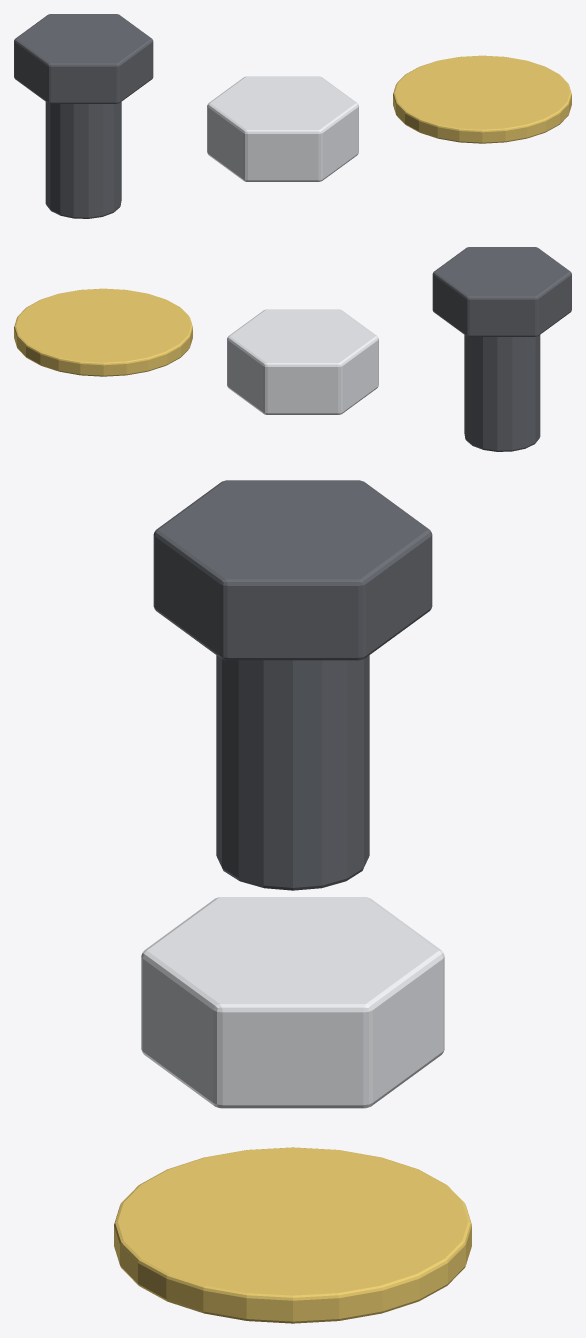
Rendered from Prop_Hardware_Pack.fbx.
The picture shows the model from 3 angles, top to bottom: view 1: azimuth 30°, elevation 25°; view 2: azimuth 150°, elevation 25°; view 3: azimuth 270°, elevation 25°; orthographic projection. The views are drawn at different scales.
Parts seen in each view (by area): view 1: Giant_Hex_Bolt, Giant_Hex_Nut, Giant_Flat_Washer; view 2: Giant_Hex_Bolt, Giant_Hex_Nut, Giant_Flat_Washer; view 3: Giant_Hex_Bolt, Giant_Hex_Nut, Giant_Flat_Washer.
Part boxes in pixels (x1,y1,x2,y2): Giant_Hex_Bolt: (14,14,153,218); Giant_Hex_Nut: (207,76,358,181); Giant_Flat_Washer: (393,55,571,143); Giant_Hex_Bolt: (432,247,571,451); Giant_Hex_Nut: (227,309,378,414); Giant_Flat_Washer: (14,288,192,376); Giant_Hex_Bolt: (153,480,432,890); Giant_Hex_Nut: (141,897,444,1108); Giant_Flat_Washer: (114,1147,471,1323).
Bounding box in the file's own units: 4.78 × 1.4 × 1.42.
